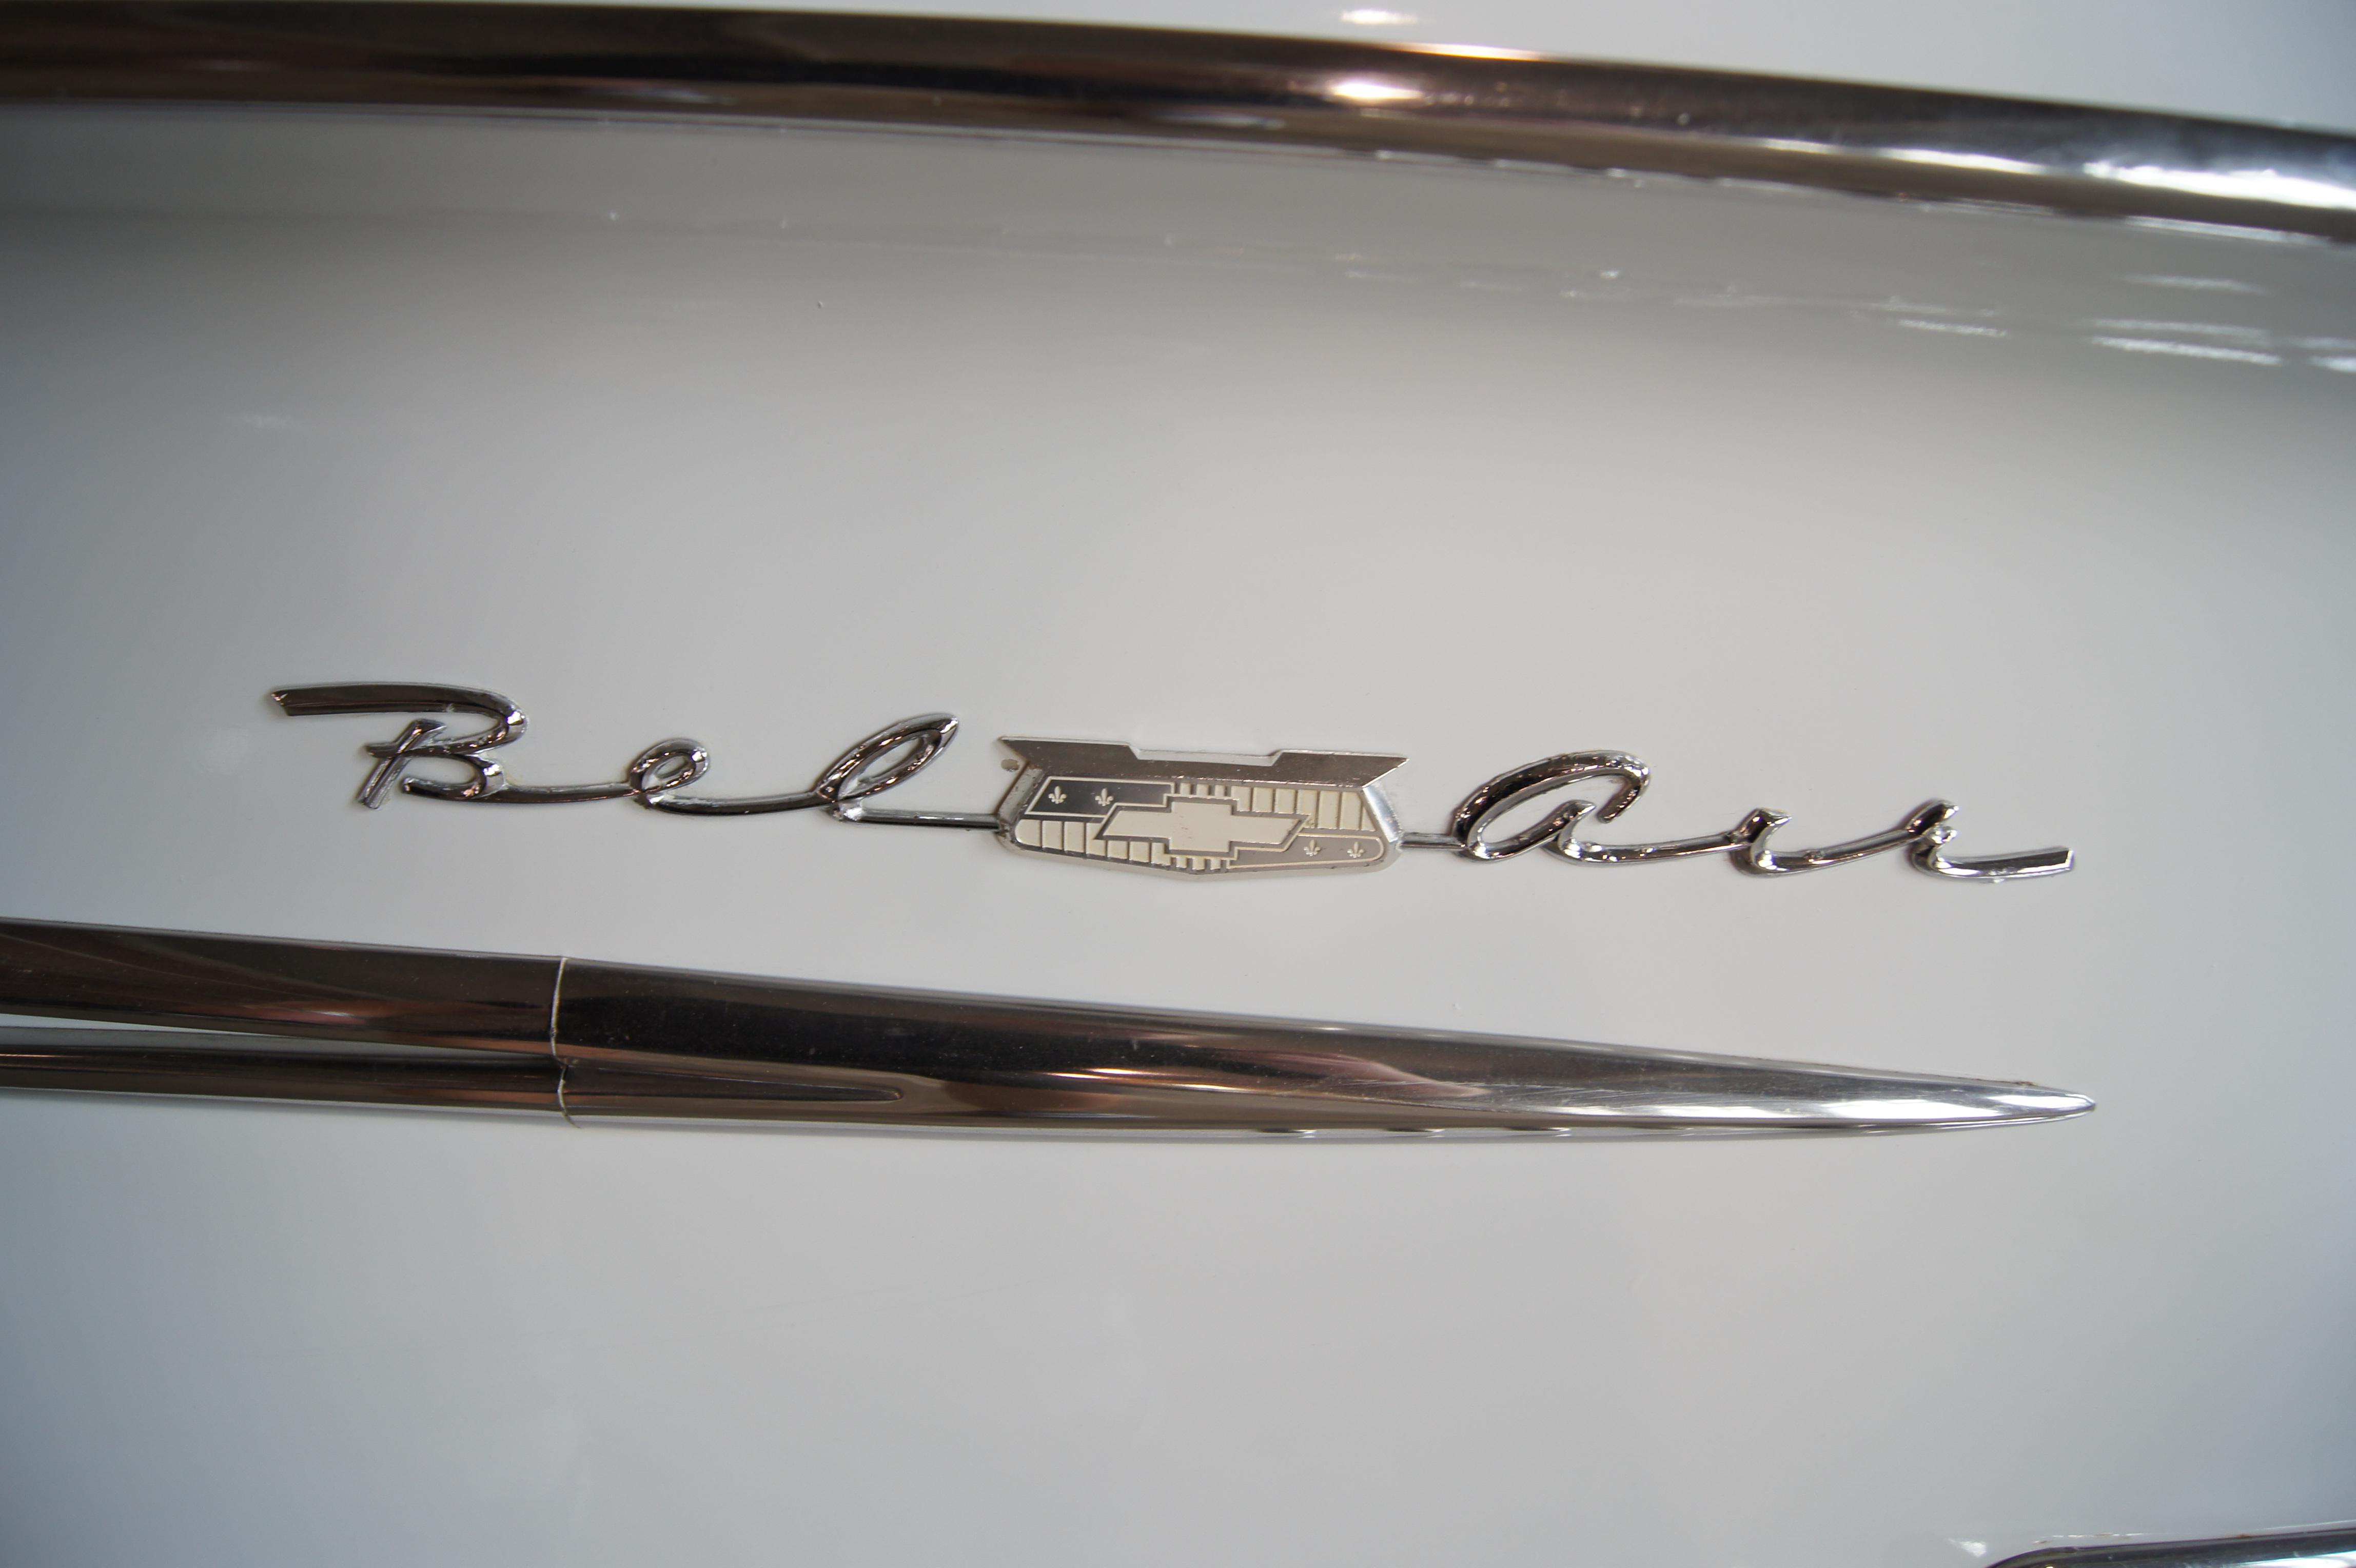Sword: (9, 889, 2076, 1190)
